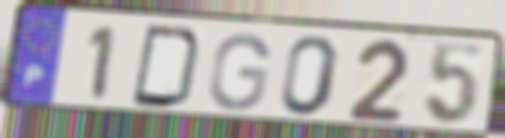0: (279, 33, 343, 119)
1: (84, 26, 118, 103)
2: (348, 36, 413, 127)
5: (424, 43, 486, 129)
D: (128, 22, 207, 112)
G: (205, 30, 273, 113)
